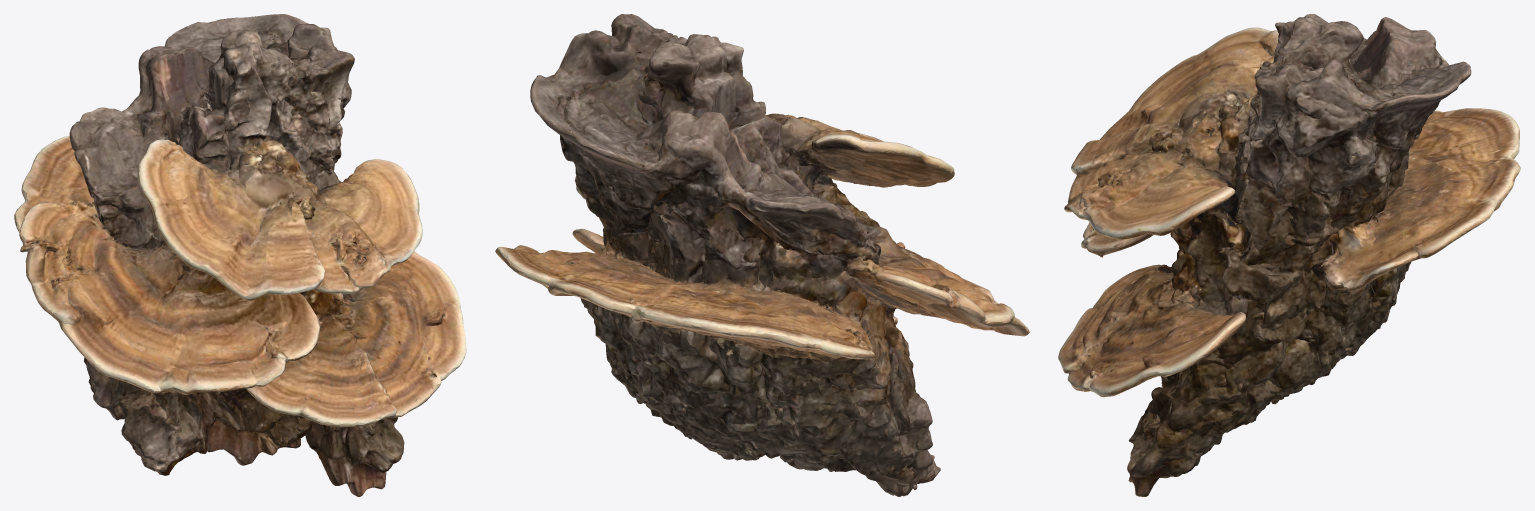
The model's file is shelf-fungus-v12-lod.glb.
The picture shows the model from 3 angles, left to right: view 1: azimuth 30°, elevation 25°; view 2: azimuth 150°, elevation 25°; view 3: azimuth 270°, elevation 25°; orthographic projection. The views are drawn at different scales.
Parts seen in each view (by area): view 1: geometry_0; view 2: geometry_0; view 3: geometry_0.
Boxes of the visible parts, x1,y1,x2,y2 form: geometry_0: (14,14,466,496); geometry_0: (495,14,1029,496); geometry_0: (1058,14,1520,496).
Size of the model in its own units: 0.3146 by 0.3199 by 0.2996.
Materials: 1 (1 with a texture image).
